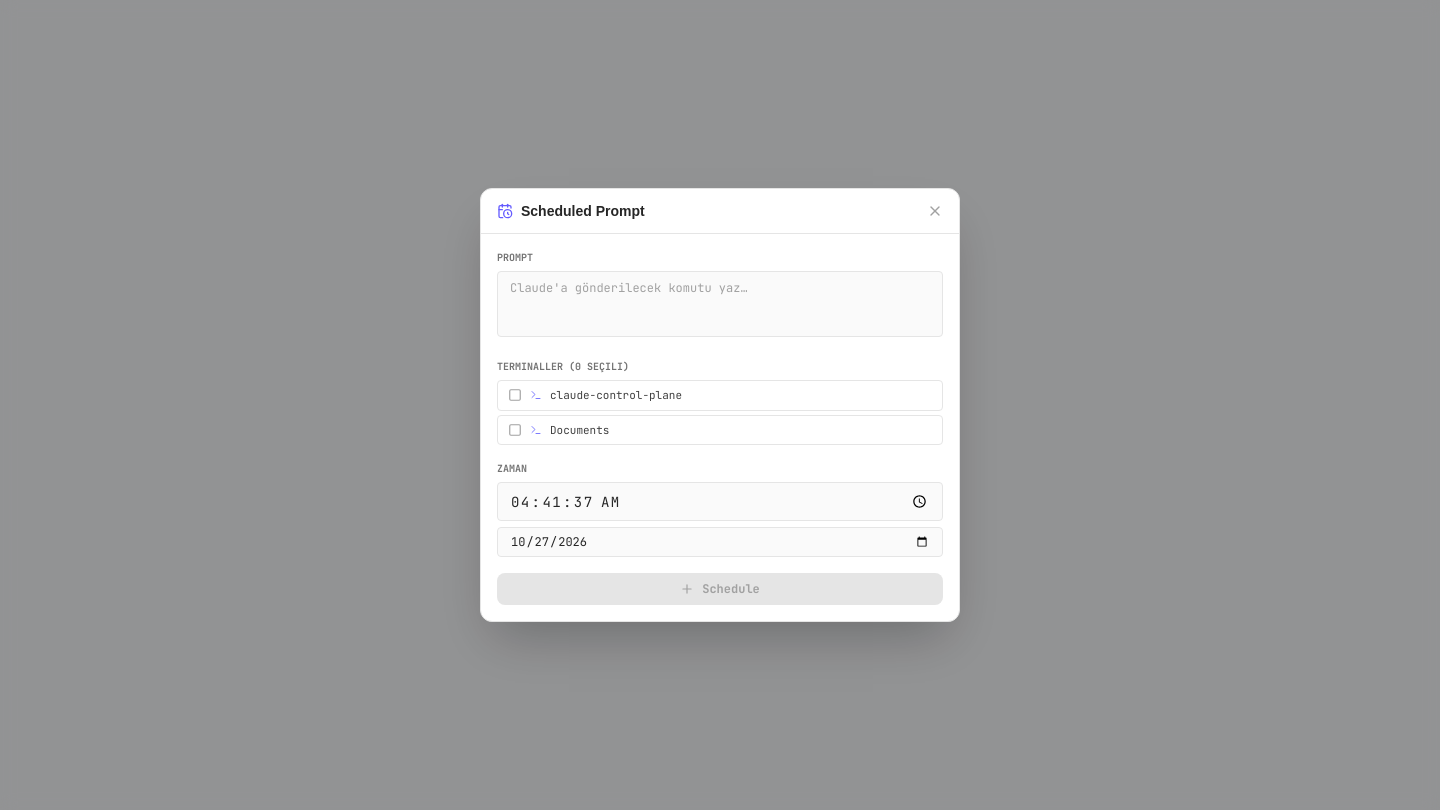
Test: ScheduledPromptModal › Schedule button is disabled until prompt + terminal selected
Expected: the button "Schedule" is disabled, [497, 573, 943, 605]
# type prompt — still no terminal selected, stays disabled
Type "run tests" into the text box with placeholder "Claude'a gönderilecek komutu yaz…" at {"x": 720, "y": 304}, box [497, 271, 943, 337]
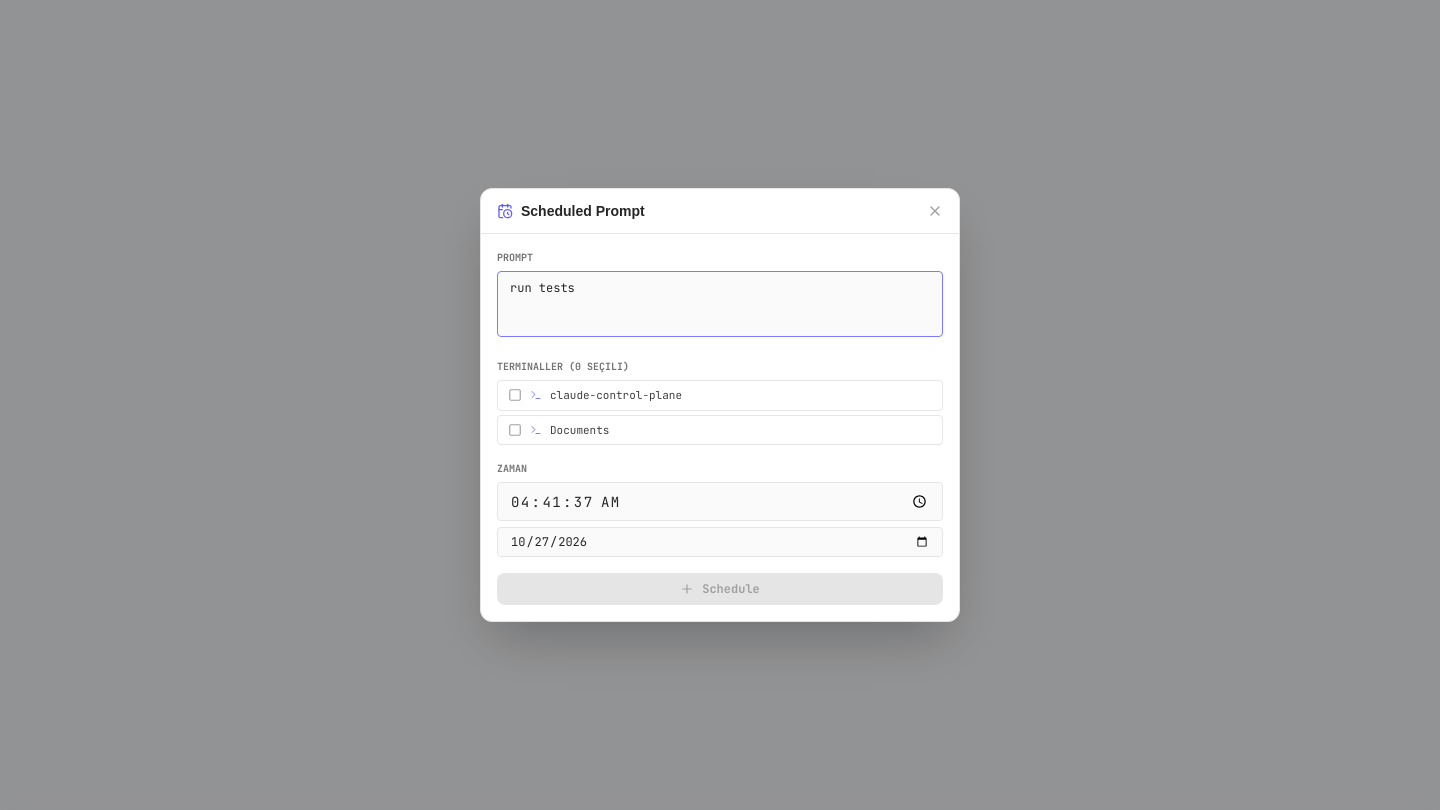
Expected: the button "Schedule" is disabled, [497, 573, 943, 605]
# select first terminal — now enabled
Click the button "claude-control-plane" at {"x": 616, "y": 395}, box [497, 380, 943, 411]
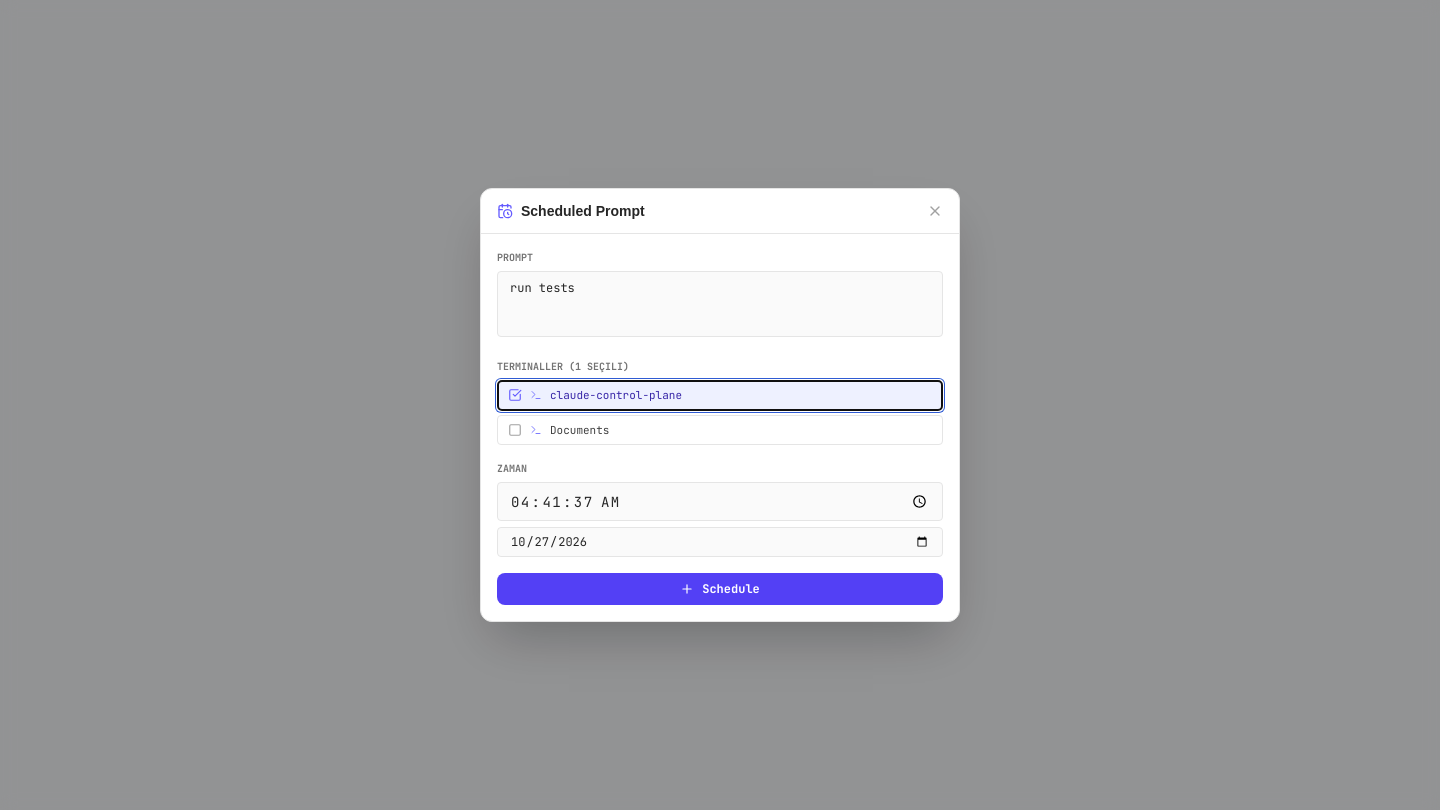
Expected: the button "Schedule" is enabled, [497, 573, 943, 605]
